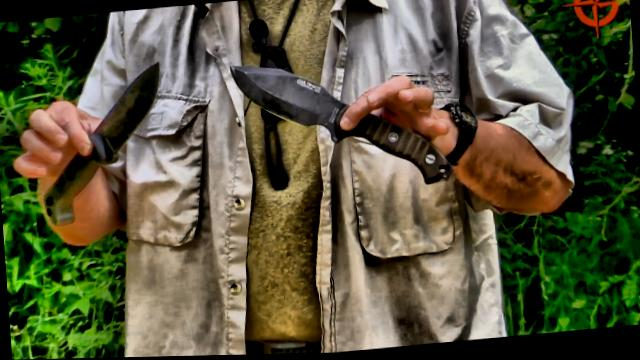knife: (221, 42, 452, 208), (30, 55, 174, 229)
